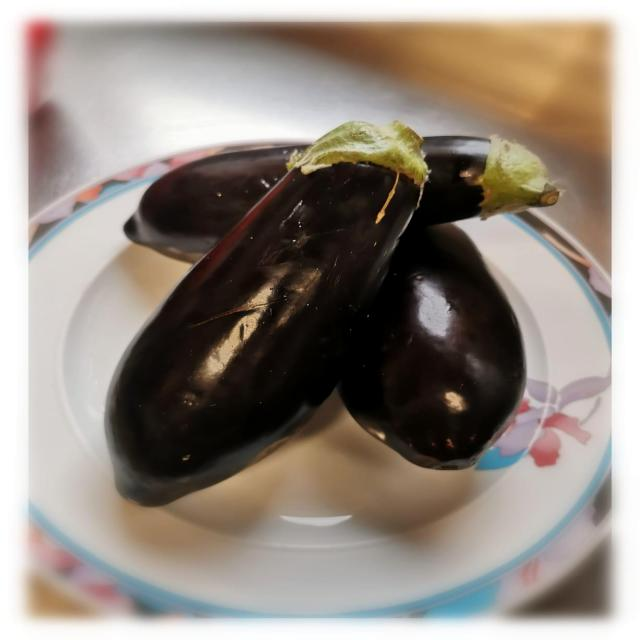eggplant: (103, 112, 458, 508)
